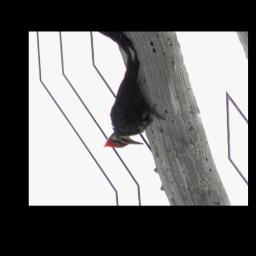Woodpecker: (75, 51, 173, 157)
